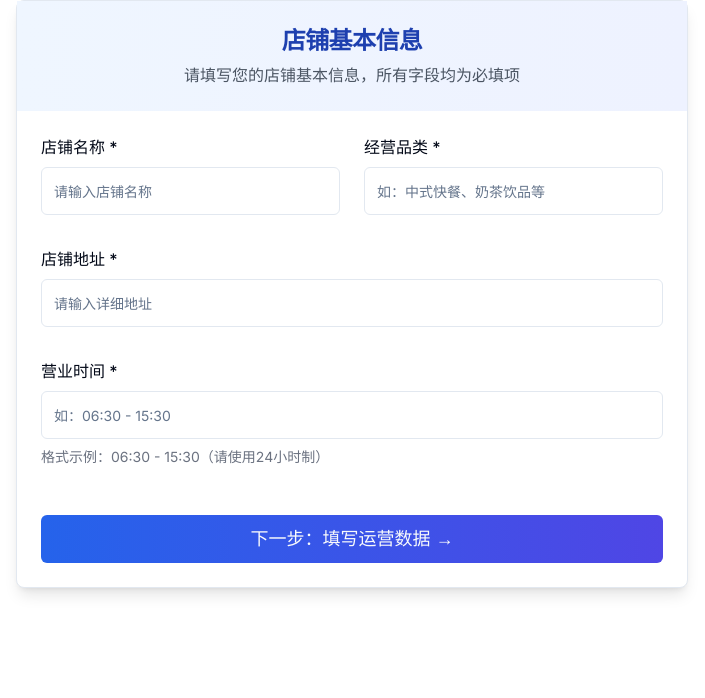
Test case: 店铺信息表单测试 › 应该清除字段错误当用户开始输入时
Click the button "下一步：填写运营数据 →": (352, 539) x1=41 y1=515 x2=663 y2=563
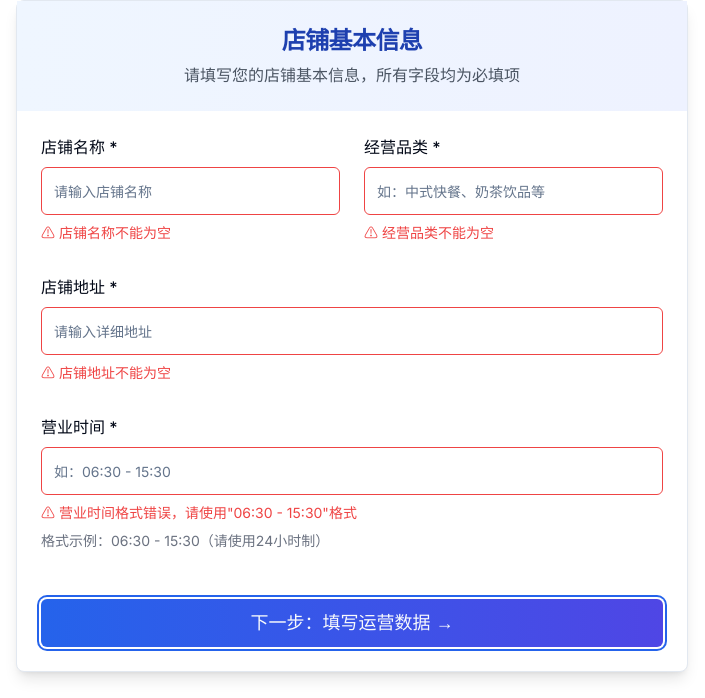
Expected: the text "店铺名称不能为空" is shown, x1=59 y1=224 x2=171 y2=241
开始输入应该清除错误
In the field labelled "店铺名称 *": (190, 191) x1=41 y1=167 x2=340 y2=215, type "测试"
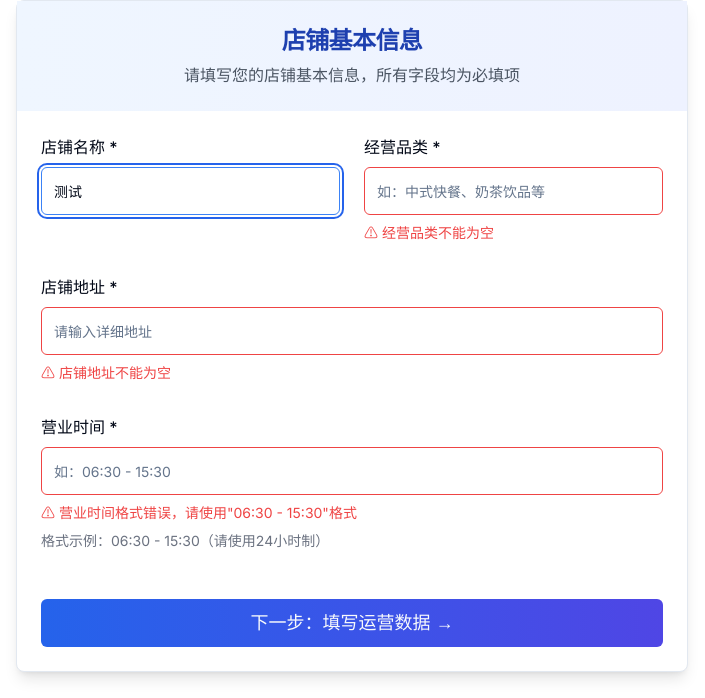
Expected: the text "店铺名称不能为空" is gone
